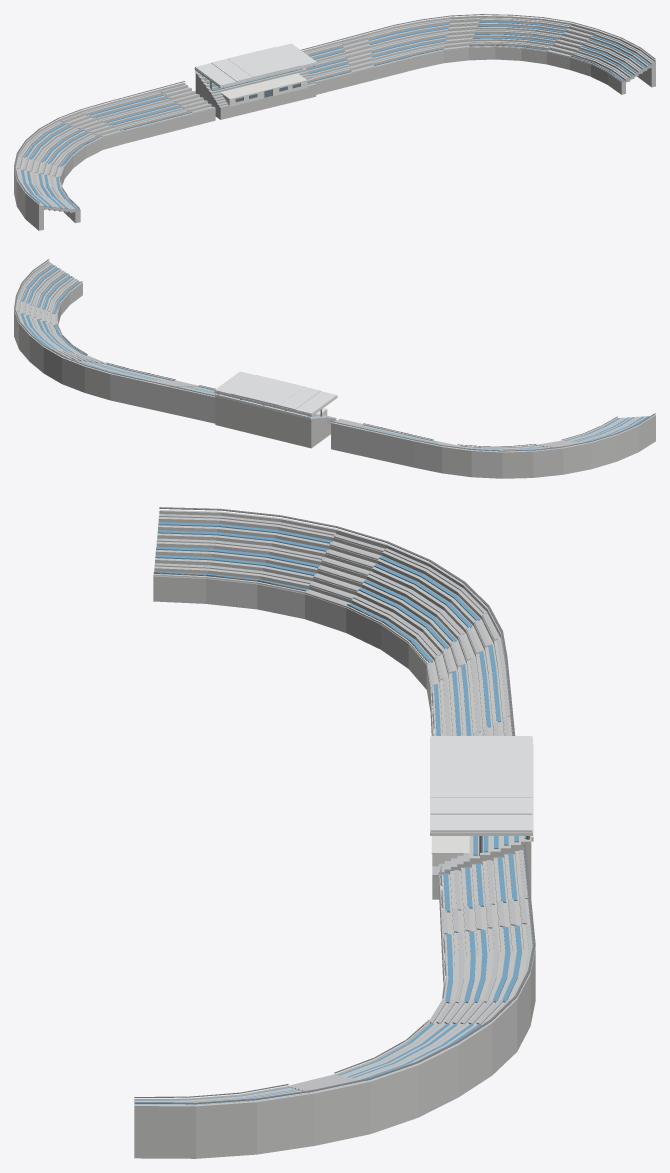
3 renders of one model, top to bottom at view 1: azimuth 30°, elevation 25°; view 2: azimuth 150°, elevation 25°; view 3: azimuth 270°, elevation 25°, orthographic. The views are drawn at different scales.
Parts seen in each view (by area): view 1: concrete, seat_grey, seat_blue, canopy_roof, wall_white, steel_dark; view 2: concrete, canopy_roof, seat_blue, seat_grey, steel_dark, wall_white; view 3: concrete, seat_grey, seat_blue, canopy_roof, steel_dark, wall_white.
Part boxes in pixels (left/top/right/bottom): concrete: left=14, top=15, right=655, bottom=230; seat_grey: left=16, top=17, right=654, bottom=209; seat_blue: left=21, top=21, right=650, bottom=210; canopy_roof: left=195, top=43, right=316, bottom=86; wall_white: left=59, top=45, right=622, bottom=209; steel_dark: left=14, top=14, right=655, bottom=208; concrete: left=14, top=260, right=655, bottom=478; canopy_roof: left=214, top=371, right=336, bottom=414; seat_blue: left=20, top=265, right=649, bottom=451; seat_grey: left=16, top=262, right=639, bottom=450; steel_dark: left=14, top=259, right=655, bottom=451; wall_white: left=56, top=281, right=617, bottom=447; concrete: left=134, top=510, right=535, bottom=1158; seat_grey: left=134, top=514, right=532, bottom=1104; seat_blue: left=134, top=522, right=526, bottom=1105; canopy_roof: left=430, top=736, right=532, bottom=831; steel_dark: left=134, top=507, right=535, bottom=1104; wall_white: left=134, top=574, right=533, bottom=1100.
Size of the model in its own units: 176 by 9.78 by 50.16.
